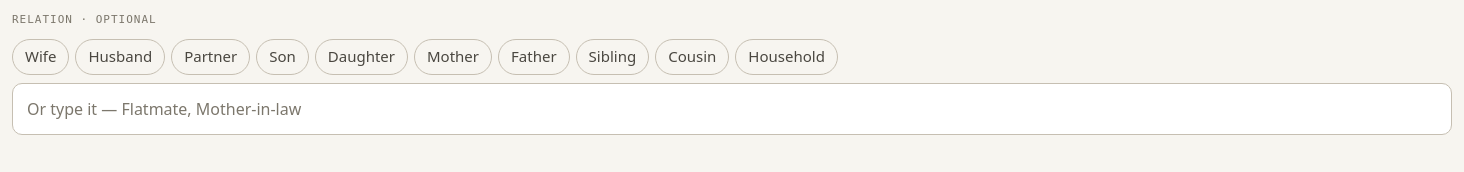
Scenario: the relation field offers the premade relations › fills the field when a suggestion is tapped
Click the button "Wife": (41, 56) left=12, top=38, right=70, bottom=74
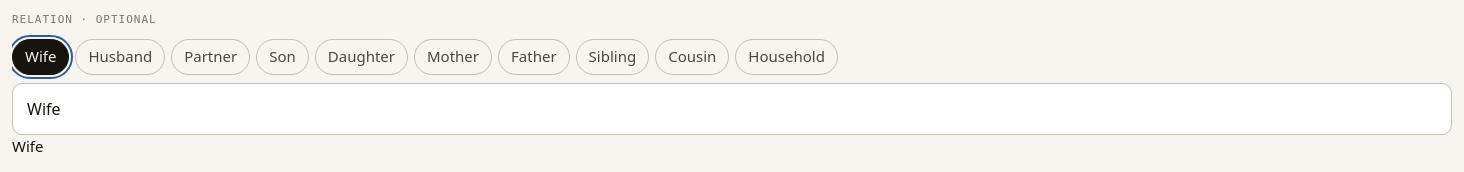
Expected: the text with test id "value" reads "Wife", left=12, top=136, right=44, bottom=156
Expected: the field named "Relation" holds "Wife", left=12, top=82, right=1452, bottom=134
